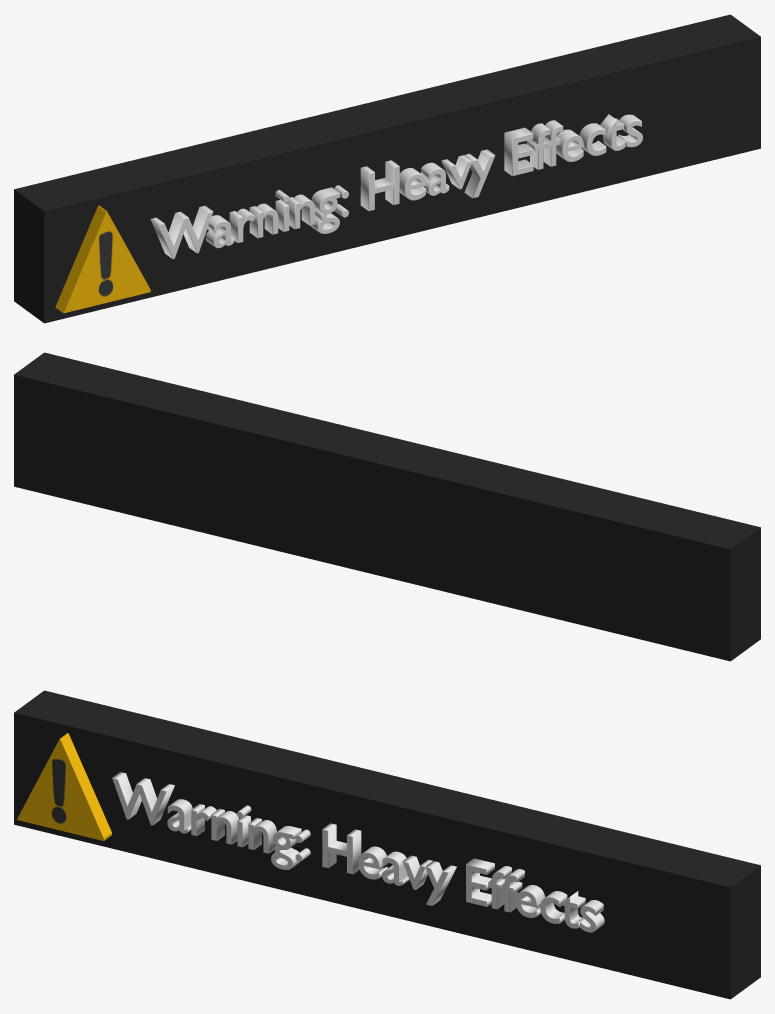
The model's file is Warning_ Heavy Effects1.fbx.
The picture shows the model from 3 angles, top to bottom: view 1: azimuth 30°, elevation 25°; view 2: azimuth 150°, elevation 25°; view 3: azimuth 330°, elevation 25°; orthographic projection.
Parts seen in each view (by area): view 1: no2, Warning: Heavy Effects; view 2: no2; view 3: no2, Warning: Heavy Effects.
Part boxes in pixels (bbox=[...]): no2: bbox=[14, 14, 760, 323]; Warning: Heavy Effects: bbox=[150, 114, 642, 259]; no2: bbox=[14, 352, 760, 661]; no2: bbox=[14, 690, 760, 999]; Warning: Heavy Effects: bbox=[112, 772, 604, 932].
Bounding box in the file's own units: 2646 × 395 × 247.
